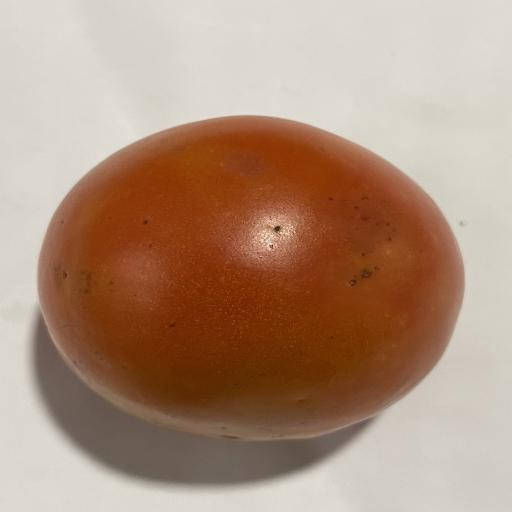ripe: (38, 116, 464, 440)
